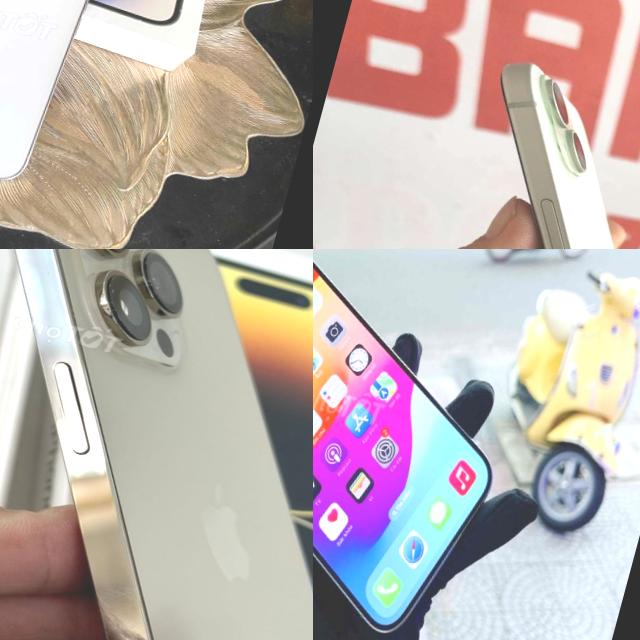gen_12_13: (313, 249, 547, 640)
gen_14: (0, 249, 313, 640), (0, 0, 112, 198)
gen_15: (375, 44, 640, 249)
